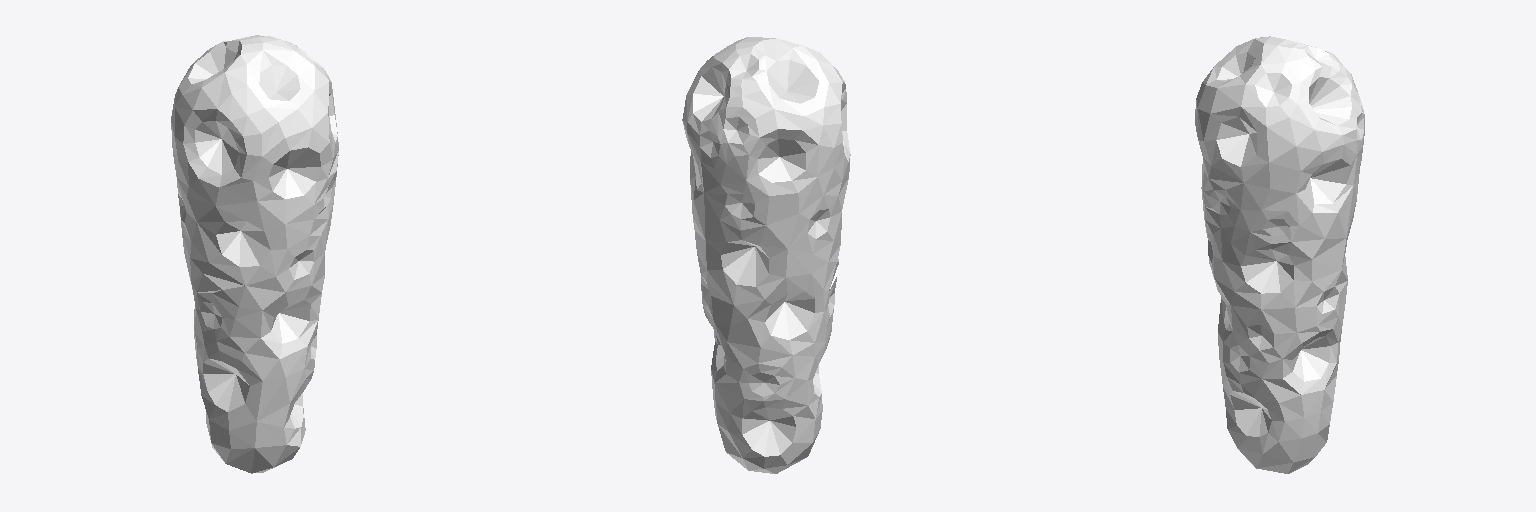
Rendered from Sponge01.obj.
The picture shows the model from 3 angles: view 1: azimuth 30°, elevation 25°; view 2: azimuth 150°, elevation 25°; view 3: azimuth 270°, elevation 25°; orthographic projection.
Visible parts, largest first — view 1: Sponge; view 2: Sponge; view 3: Sponge.
Boxes of the visible parts, box(x1,y1,x2,y2) form: Sponge: box(171, 35, 338, 473); Sponge: box(682, 37, 850, 473); Sponge: box(1195, 36, 1364, 473).
Size of the model in its own units: 37.95 by 105 by 37.85.